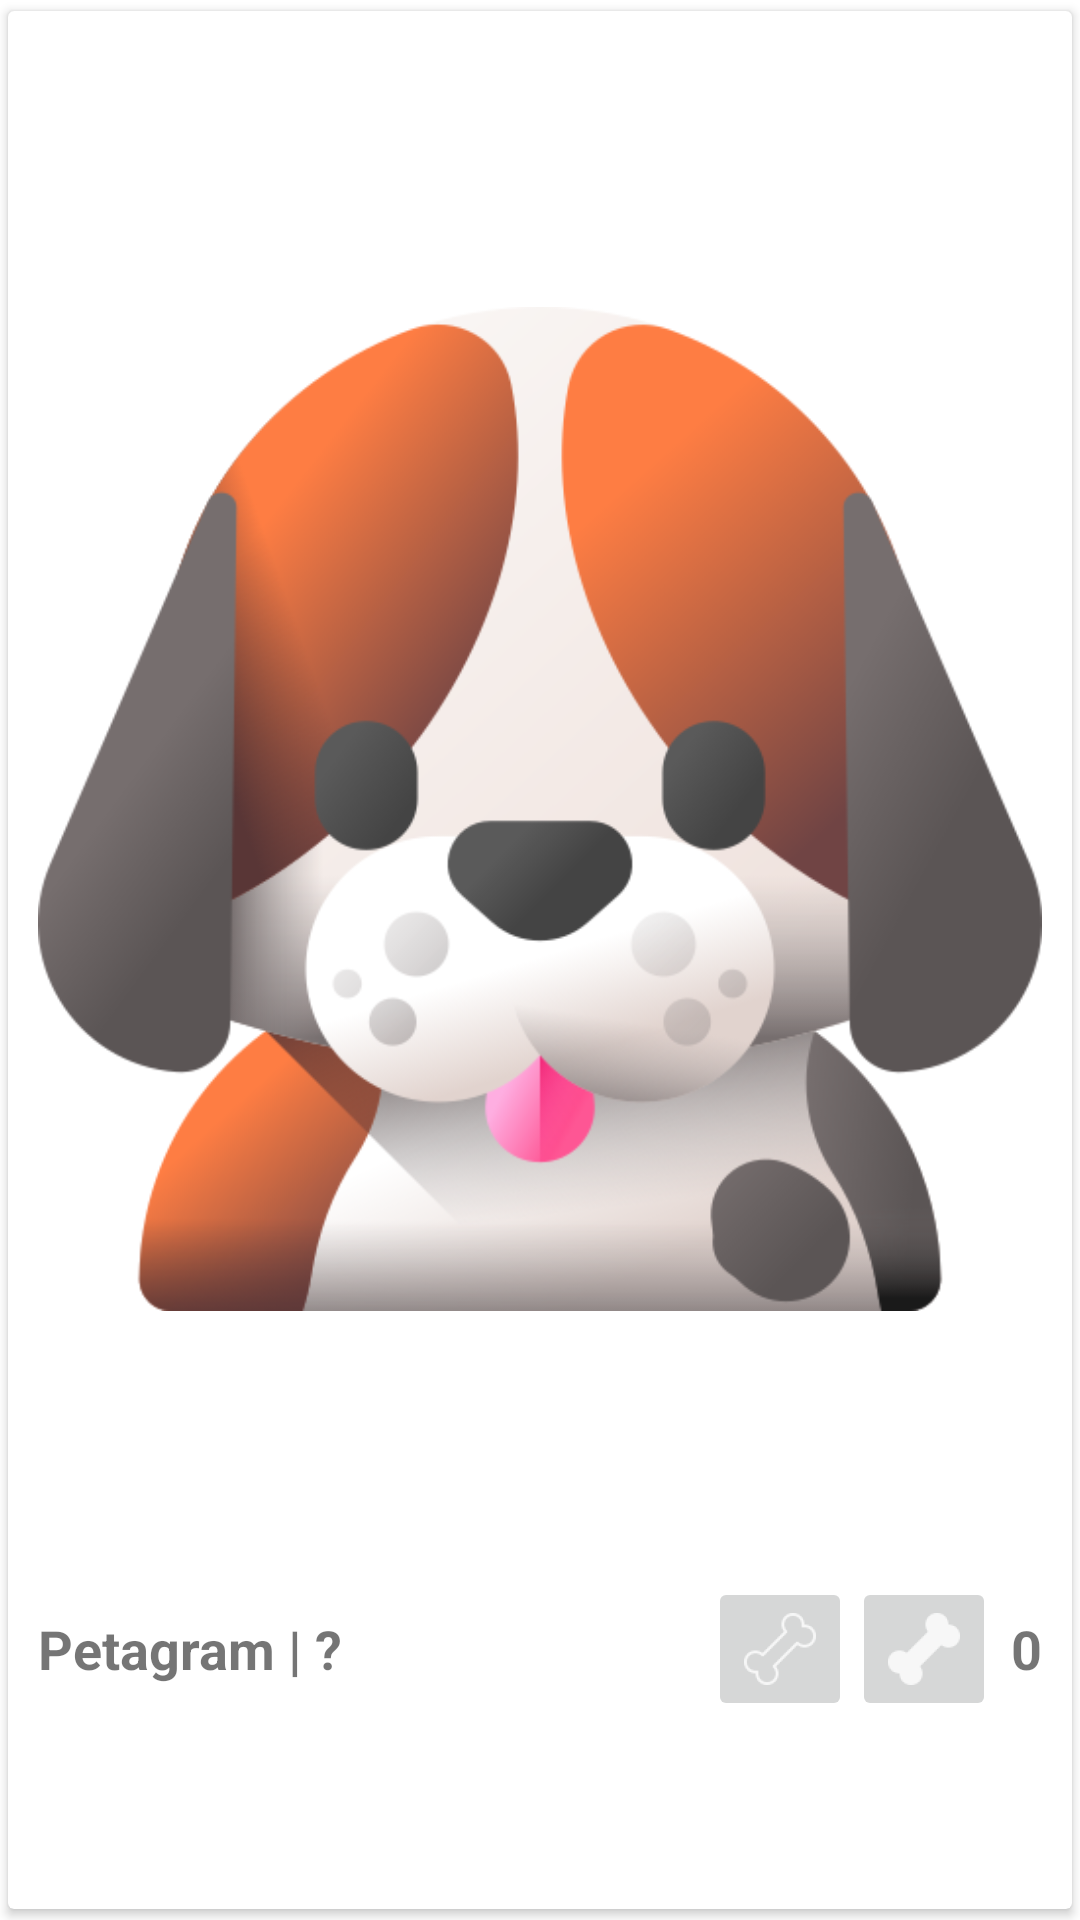

Point at icon controls on the screen. Image size 1080 x 1920, points as (x,y).
pet bone empty: (780,1649)
pet bone full: (924,1649)
